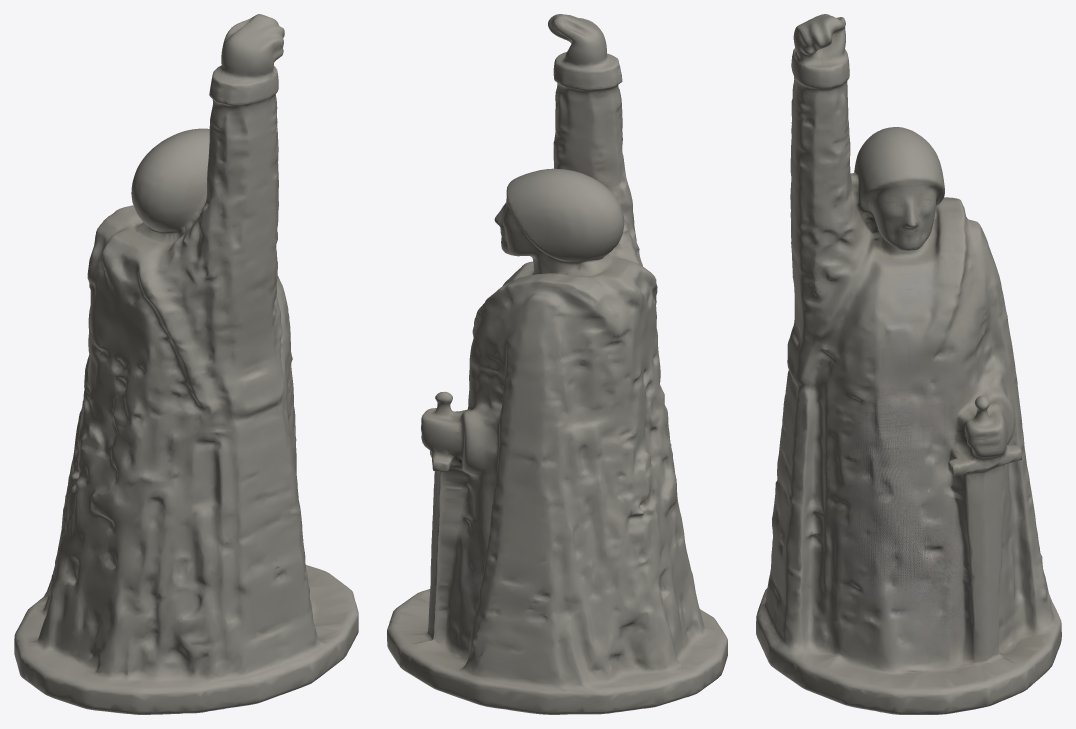
File: monumento.obj
3 views of the same model, side by side, from view 1: azimuth 30°, elevation 25°; view 2: azimuth 150°, elevation 25°; view 3: azimuth 270°, elevation 25° (orthographic). The views are drawn at different scales.
Visible parts, largest first — view 1: input; view 2: input; view 3: input.
Boxes of the visible parts, x1=… form: input: x1=14, y1=14, x2=358, y2=714; input: x1=387, y1=14, x2=727, y2=714; input: x1=756, y1=14, x2=1061, y2=714.
Size of the model in its own units: 1.22 by 2.39 by 1.03.
1 material, 1 textured.
